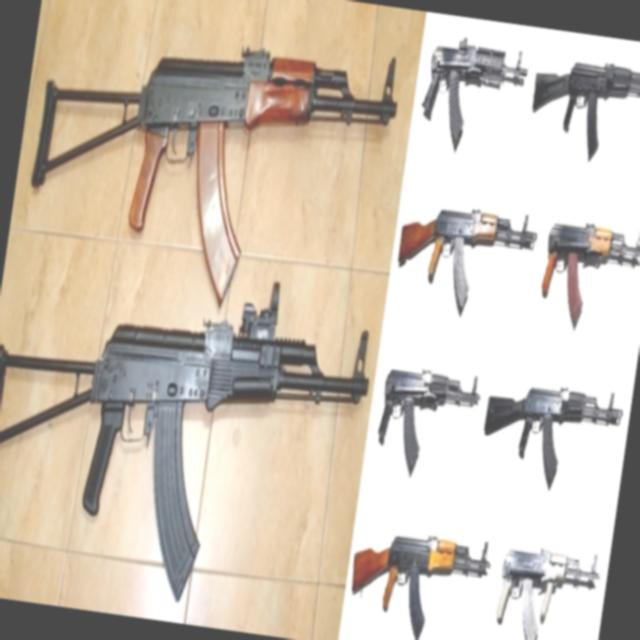ak: (17, 0, 407, 321), (388, 180, 542, 338), (342, 524, 493, 640), (534, 198, 640, 339)
